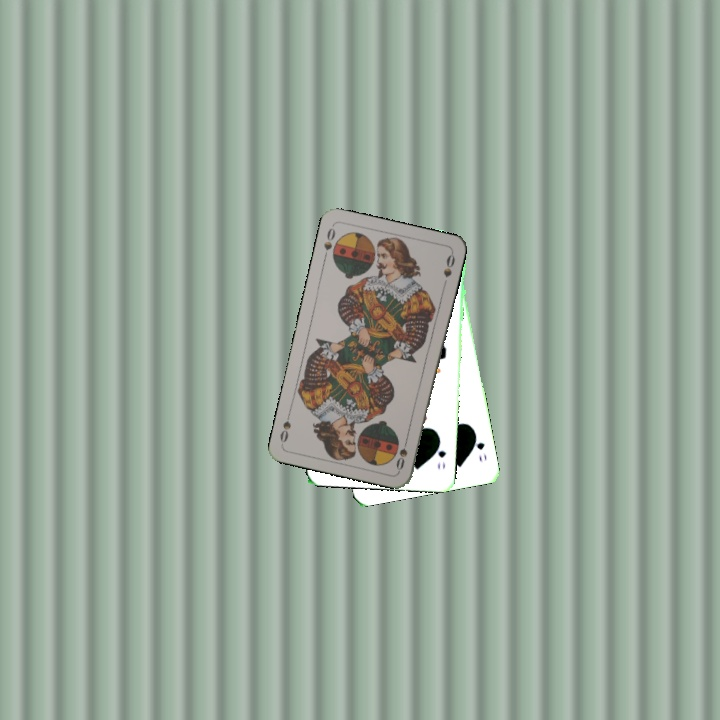GO: (470, 428, 489, 465), (432, 435, 448, 472)
SO: (392, 433, 411, 473), (320, 222, 338, 262)
